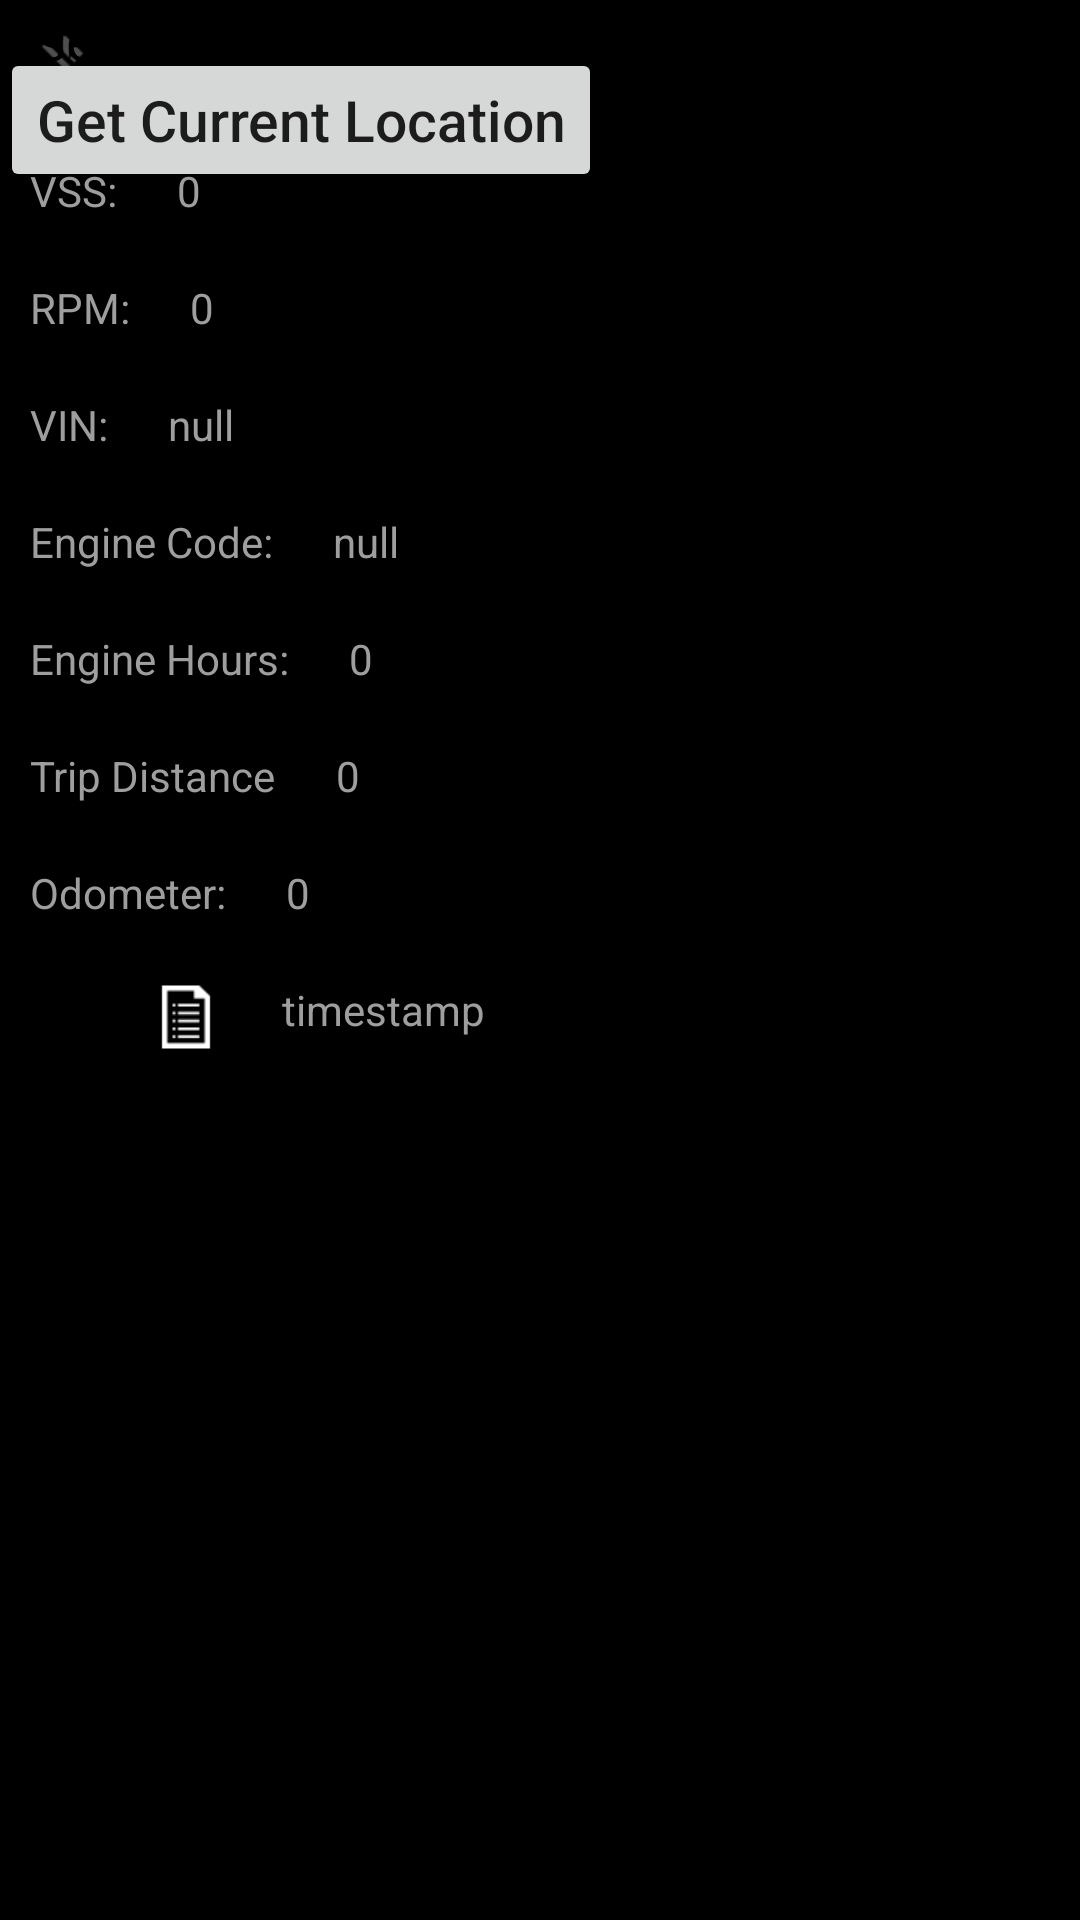

Screen size 1080x1920. Icon name, then its center in pixels as [x,y]:
detail: [186,1017]
